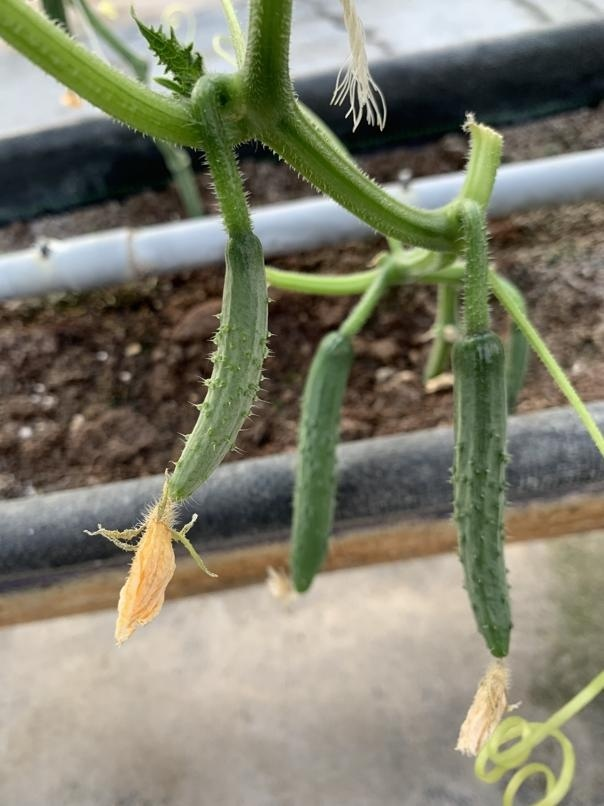bear: (102, 228, 280, 647)
growth: (431, 323, 536, 751), (263, 331, 363, 603)
